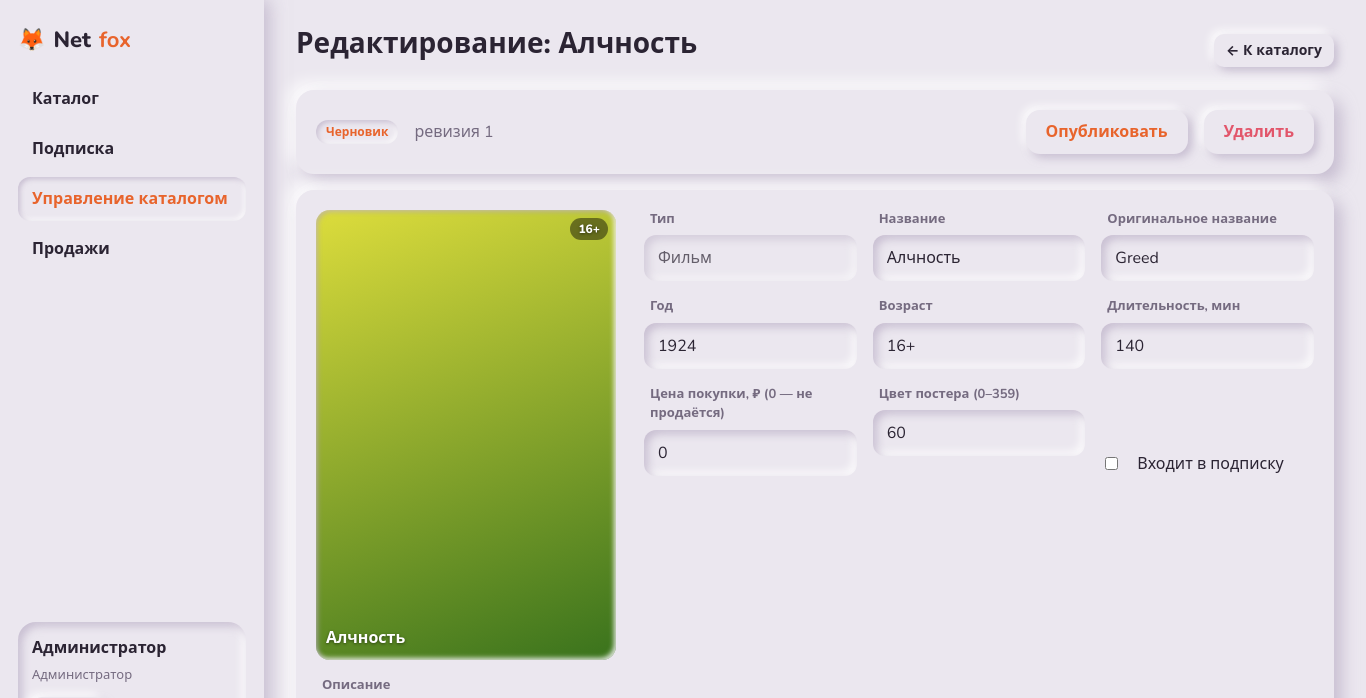
Test: администратор: каталог и продажи › удаляет черновик
The width and height of the screenshot is (1366, 698).
Click the button "Удалить" at point(1259, 132), box [1204, 110, 1314, 154]
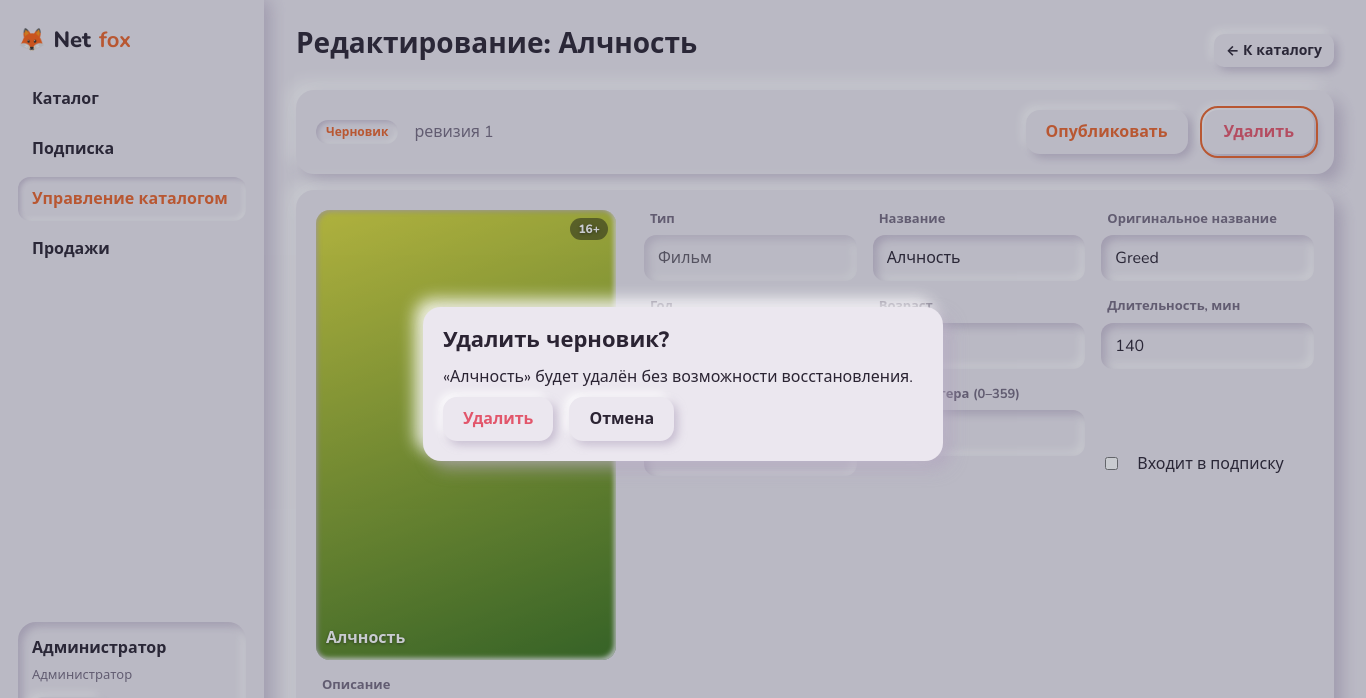
Click the button "Удалить" at point(498, 419), box [443, 397, 554, 441]
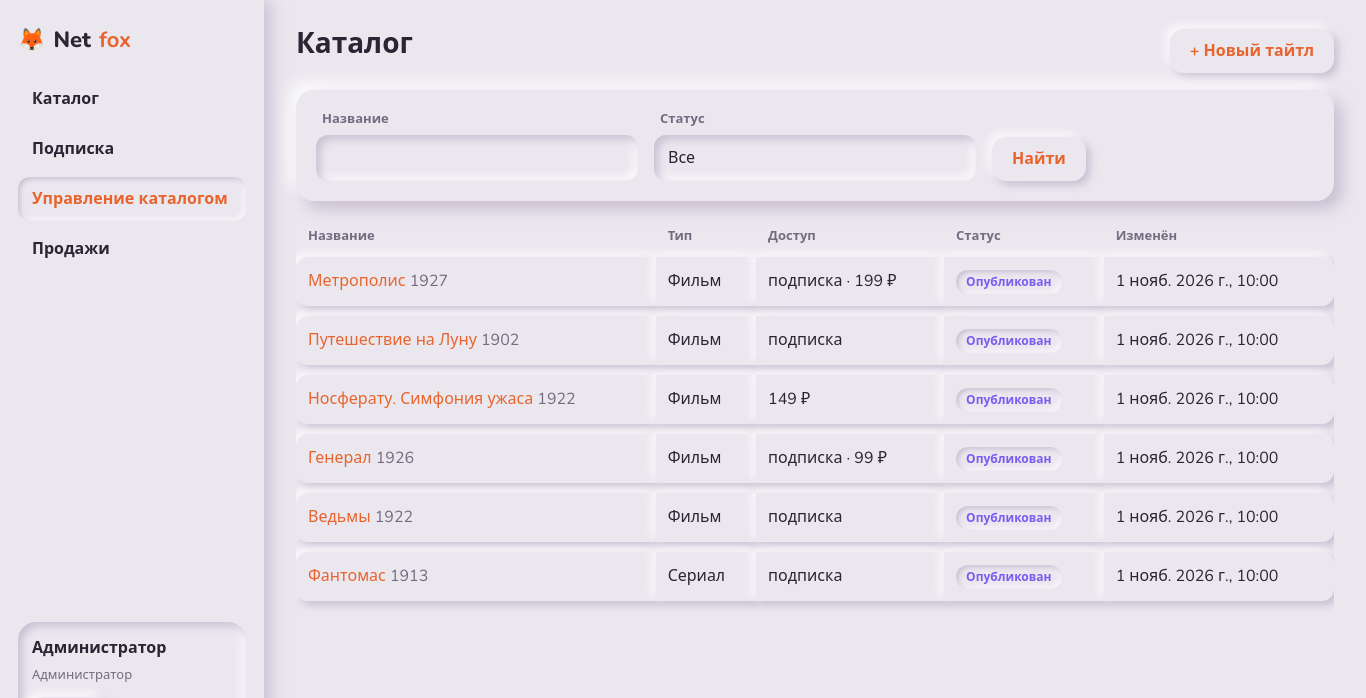
Now the heading "Каталог" is shown, box [296, 28, 413, 62]
